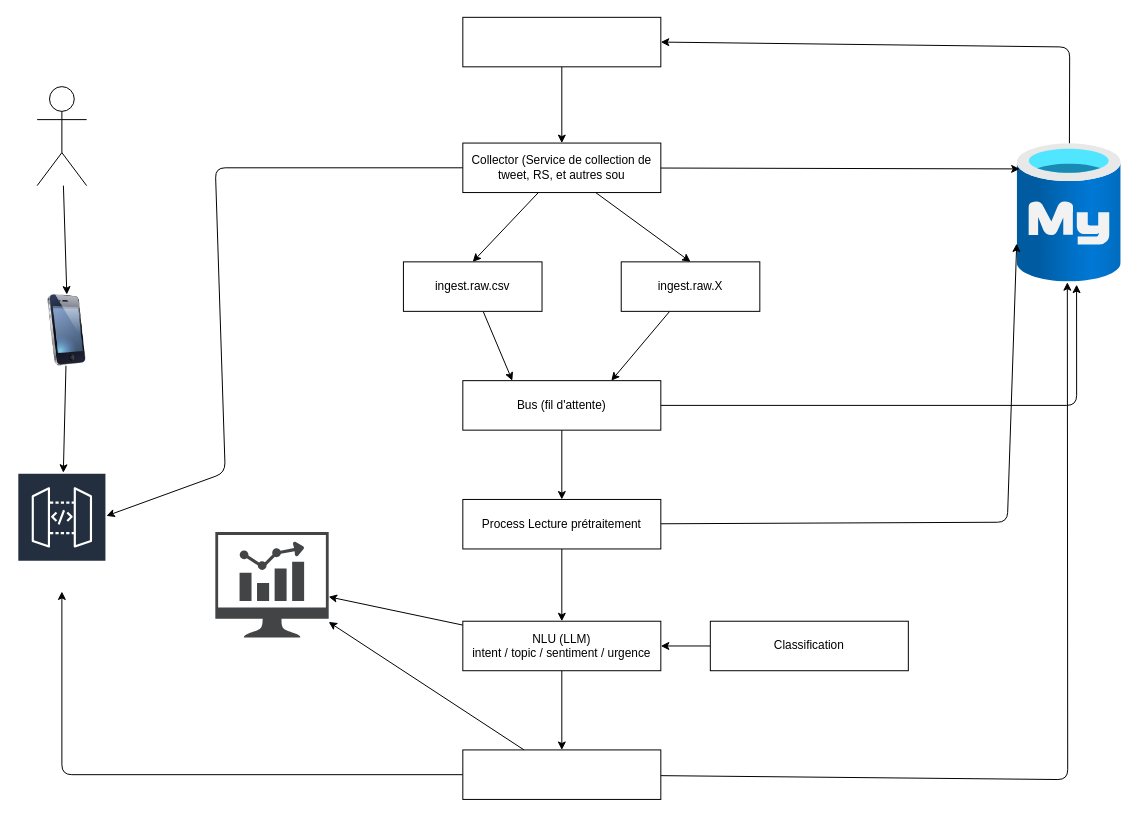
This 1139x817 diagram has some shape labels left out. The box of each missing label's shape, as (x1, y1, x2, y2) in pixels:
Client: (36, 86, 87, 186)
RAG & Réponse (LLM): (462, 749, 661, 799)
Schedular (Python): (462, 16, 661, 67)
X API Gateway: (16, 472, 106, 592)
